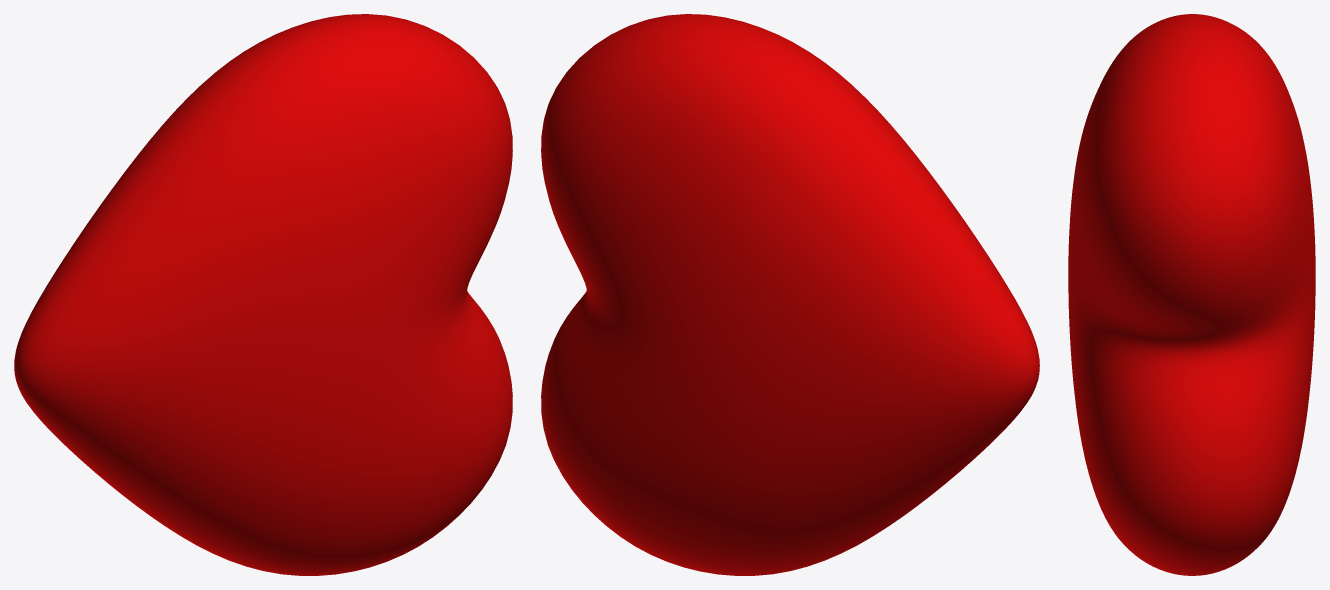
File: newheart7.fbx
3 views of the same model, side by side, from view 1: azimuth 30°, elevation 25°; view 2: azimuth 150°, elevation 25°; view 3: azimuth 270°, elevation 25° (orthographic). The views are drawn at different scales.
Parts seen in each view (by area): view 1: 12190_Heart_v1_L3; view 2: 12190_Heart_v1_L3; view 3: 12190_Heart_v1_L3.
Boxes of the visible parts, x1,y1,x2,y2 form: 12190_Heart_v1_L3: (14,14,512,575); 12190_Heart_v1_L3: (541,14,1039,575); 12190_Heart_v1_L3: (1068,14,1315,575).
Size of the model in its own units: 259 by 276 by 119.
1 material, 1 textured.
